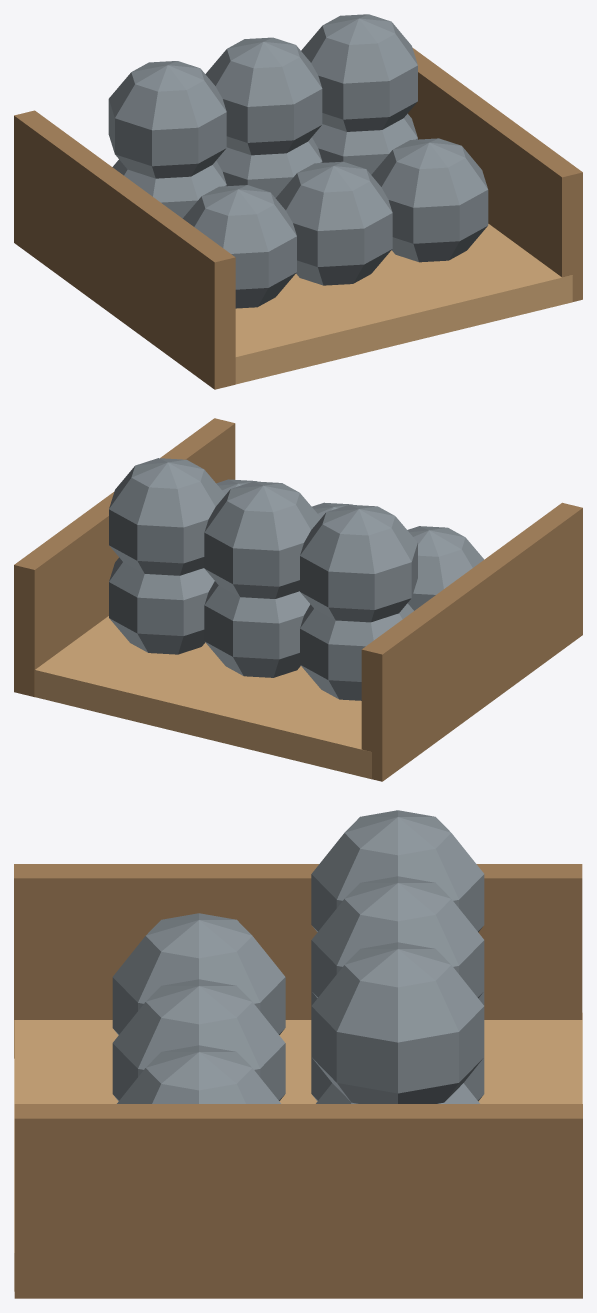
The model's file is ore-stockpile.glb.
3 views of the same model, one above another, from view 1: azimuth 30°, elevation 25°; view 2: azimuth 150°, elevation 25°; view 3: azimuth 270°, elevation 25° (orthographic). The views are drawn at different scales.
Parts seen in each view (by area): view 1: ore-stockpile; view 2: ore-stockpile; view 3: ore-stockpile.
Boxes of the visible parts, x1=… form: ore-stockpile: x1=14, y1=14, x2=582, y2=389; ore-stockpile: x1=14, y1=418, x2=582, y2=781; ore-stockpile: x1=14, y1=810, x2=582, y2=1298.
Size of the model in its own units: 2.12 by 1.12 by 2.
